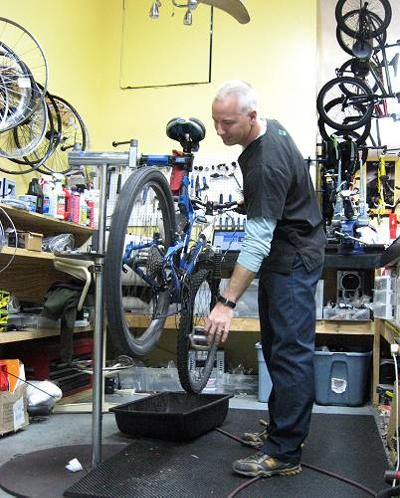person: (205, 79, 331, 482)
